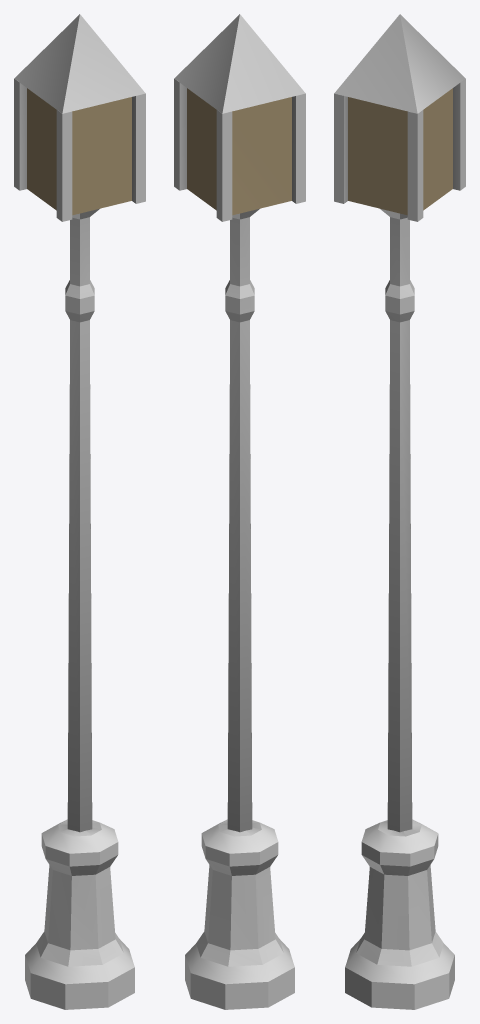
Rendered from lamp_post.glb.
3 renders of one model, left to right at view 1: azimuth 30°, elevation 25°; view 2: azimuth 210°, elevation 25°; view 3: azimuth 330°, elevation 25°, orthographic.
Parts seen in each view (by area): view 1: lamp_post_MC_Roof, lamp_post_MC_Glow; view 2: lamp_post_MC_Roof, lamp_post_MC_Glow; view 3: lamp_post_MC_Roof, lamp_post_MC_Glow.
Part boxes in pixels (box(x1,y1,x2,y2)): lamp_post_MC_Roof: box(14, 14, 145, 1009); lamp_post_MC_Glow: box(27, 88, 131, 215); lamp_post_MC_Roof: box(174, 14, 305, 1009); lamp_post_MC_Glow: box(187, 88, 291, 215); lamp_post_MC_Roof: box(334, 14, 465, 1009); lamp_post_MC_Glow: box(348, 88, 452, 215).
Bounding box in the file's own units: 0.4 × 3.78 × 0.4.
